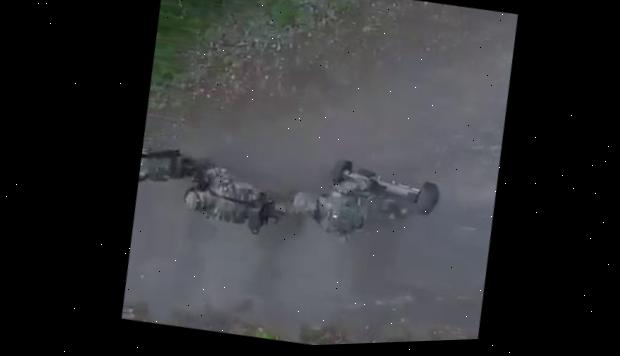person: (286, 162, 419, 248), (178, 160, 304, 243)
